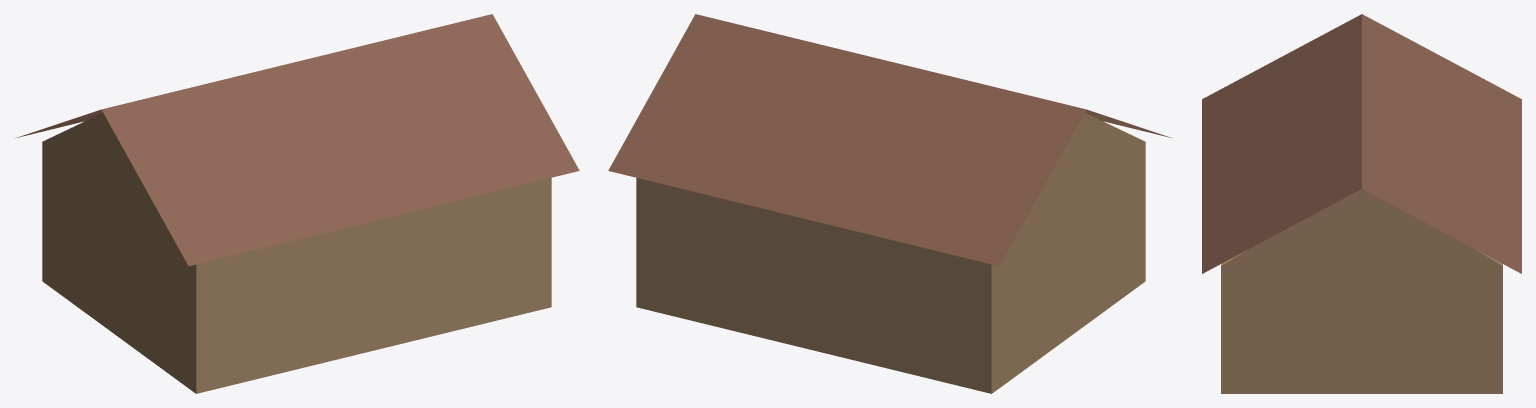
Rendered from cabin.gltf.
3 renders of one model, left to right at view 1: azimuth 30°, elevation 25°; view 2: azimuth 150°, elevation 25°; view 3: azimuth 270°, elevation 25°, orthographic. The views are drawn at different scales.
Parts seen in each view (by area): view 1: Cabin; view 2: Cabin; view 3: Cabin.
Boxes of the visible parts, x1,y1,x2,y2 form: Cabin: (15,14,579,393); Cabin: (608,14,1172,393); Cabin: (1202,14,1521,393).
Bounding box in the file's own units: 8.8 × 5 × 6.8.
